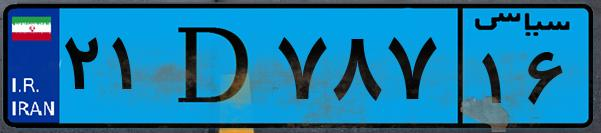1: (475, 38, 525, 113), (110, 28, 158, 98)
2: (57, 26, 110, 100)
6: (525, 38, 570, 115)
7: (270, 28, 330, 110), (385, 28, 445, 110)
8: (330, 28, 385, 110)
D: (158, 12, 270, 120)
